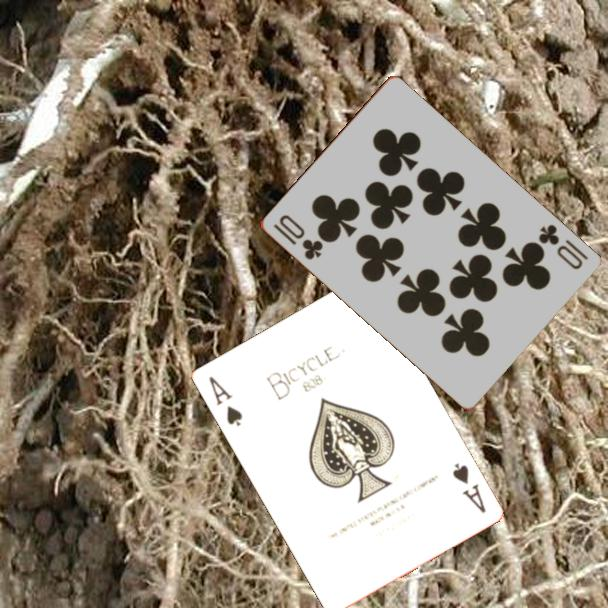c10: (534, 221, 591, 273), (269, 211, 325, 263)
s01: (205, 372, 245, 429), (448, 459, 488, 516)
